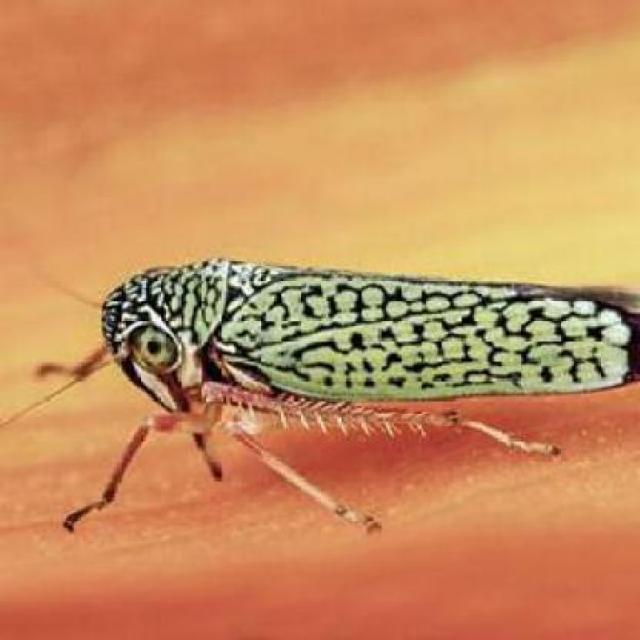green-leafhopper: (31, 254, 638, 531)
